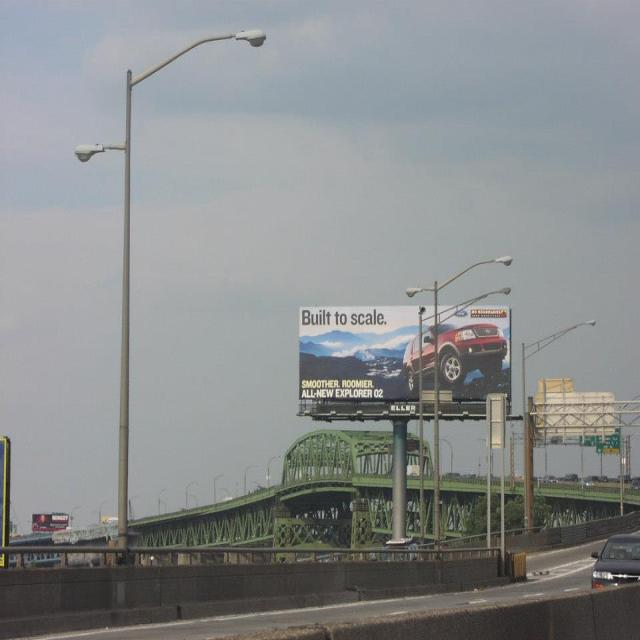Electric pole: (75, 29, 265, 551), (407, 255, 513, 546)
